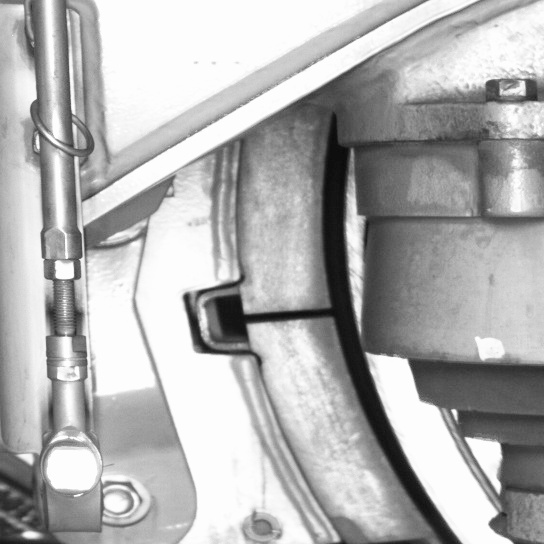KnifeSwitch: (247, 137, 470, 542)
